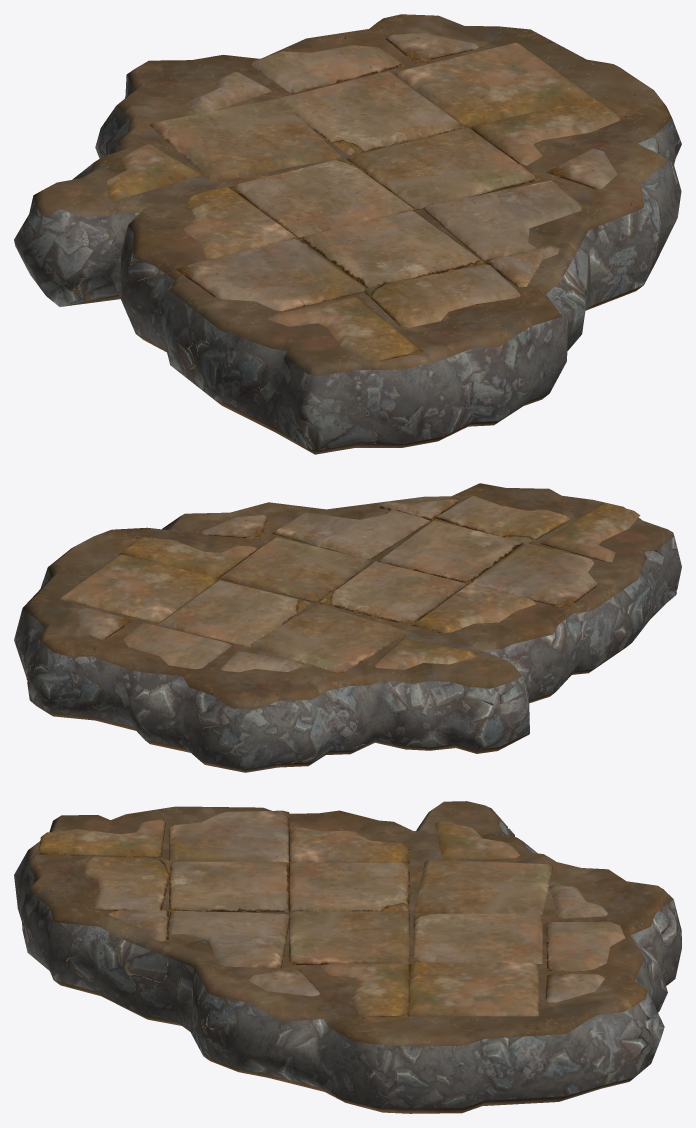
3 renders of one model, top to bottom at view 1: azimuth 30°, elevation 25°; view 2: azimuth 150°, elevation 25°; view 3: azimuth 270°, elevation 25°, orthographic. The views are drawn at different scales.
Visible parts, largest first — view 1: SM_Menaphite_Ruins_Floor_01_LOD0; view 2: SM_Menaphite_Ruins_Floor_01_LOD0; view 3: SM_Menaphite_Ruins_Floor_01_LOD0.
Part boxes in pixels (box(x1,y1,x2,y2)): SM_Menaphite_Ruins_Floor_01_LOD0: box(14, 14, 681, 454); SM_Menaphite_Ruins_Floor_01_LOD0: box(14, 483, 681, 772); SM_Menaphite_Ruins_Floor_01_LOD0: box(14, 801, 681, 1113).
Bounding box in the file's own units: 6.7 × 0.9801 × 7.4.
3 materials, 3 textured.
